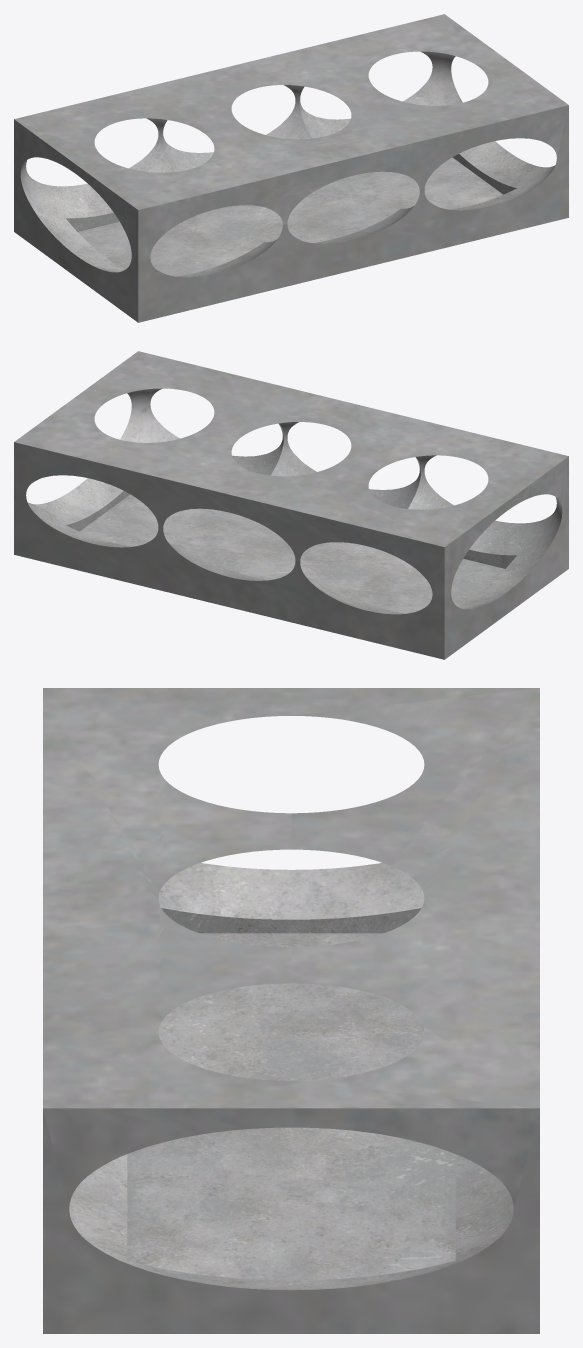
The model's file is main_room.gltf.
3 renders of one model, top to bottom at view 1: azimuth 30°, elevation 25°; view 2: azimuth 150°, elevation 25°; view 3: azimuth 270°, elevation 25°, orthographic. The views are drawn at different scales.
Visible parts, largest first — view 1: MainRoomBaked2; view 2: MainRoomBaked2; view 3: MainRoomBaked2.
Boxes of the visible parts, <box> form: MainRoomBaked2: <box>14,14,568,322</box>; MainRoomBaked2: <box>14,351,568,659</box>; MainRoomBaked2: <box>43,688,539,1333</box>.
Size of what is drawn, in the model's own units: 44 by 11 by 22.
Materials: 1 (1 with a texture image).
